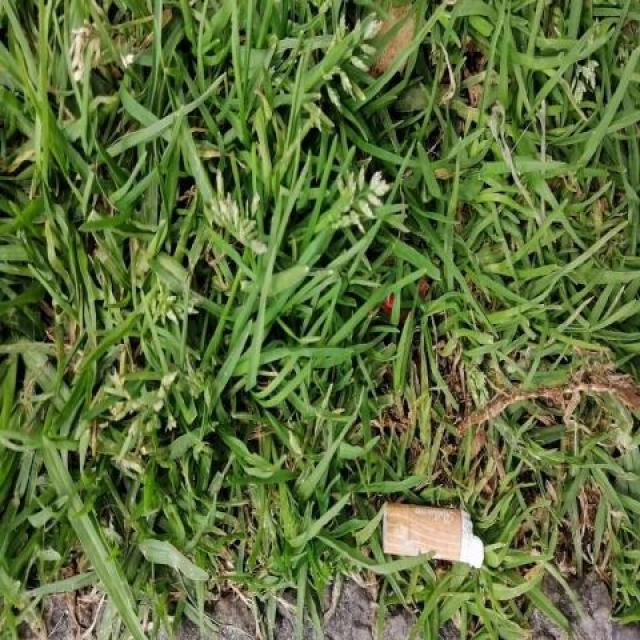non-organic waste: (380, 499, 485, 572)
